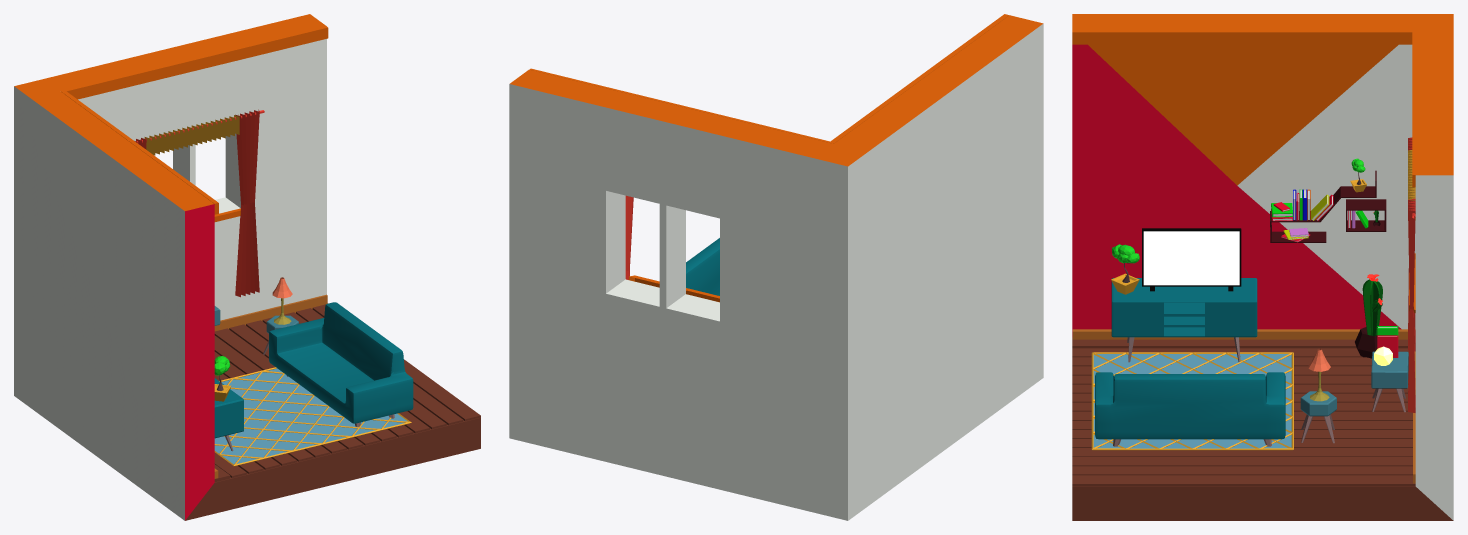
The picture shows the model from 3 angles, left to right: view 1: azimuth 30°, elevation 25°; view 2: azimuth 150°, elevation 25°; view 3: azimuth 270°, elevation 25°; orthographic projection. The views are drawn at different scales.
Visible parts, largest first — view 1: paredes_6, fofa_8, tapete_5, Plane.011_2, Plane.002_4, rack_14; view 2: paredes_6, fofa_8; view 3: paredes_6, fofa_8, rack_14, tv_13, tapete_5, Plane.002_4, Estante_39, Plane.011_2, cacto_15, mesa_19, criado_11, jarro_1_12 (+1 smaller).
Part boxes in pixels (bbox=[...]): paredes_6: bbox=[14, 14, 480, 520]; fofa_8: bbox=[269, 302, 413, 423]; tapete_5: bbox=[214, 368, 407, 464]; Plane.011_2: bbox=[135, 109, 264, 297]; Plane.002_4: bbox=[214, 367, 411, 466]; rack_14: bbox=[214, 378, 243, 451]; paredes_6: bbox=[509, 14, 1043, 520]; fofa_8: bbox=[686, 238, 719, 295]; paredes_6: bbox=[1072, 14, 1453, 520]; fofa_8: bbox=[1095, 372, 1285, 439]; rack_14: bbox=[1111, 278, 1257, 362]; tv_13: bbox=[1142, 228, 1241, 291]; tapete_5: bbox=[1093, 354, 1291, 448]; Plane.002_4: bbox=[1091, 352, 1293, 450]; Estante_39: bbox=[1270, 170, 1386, 242]; Plane.011_2: bbox=[1408, 137, 1415, 412]; cacto_15: bbox=[1355, 274, 1382, 358]; mesa_19: bbox=[1371, 351, 1408, 412]; criado_11: bbox=[1300, 391, 1336, 443]; jarro_1_12: bbox=[1111, 244, 1139, 294].
Size of what is drawn, in the model's own units: 1 by 1 by 1.
